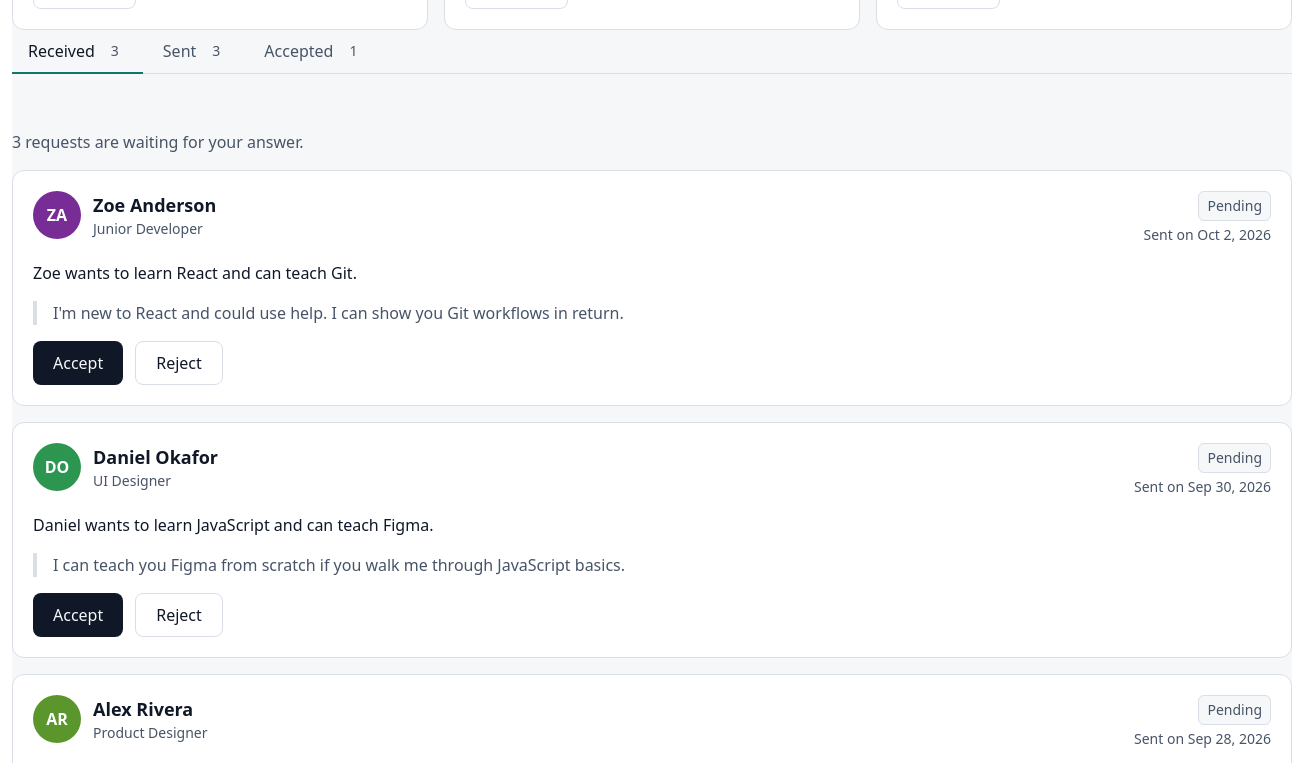
Test: Dashboard: stays in step with the other pages › updates the pending number after answering a request on the Requests page
(page scrolled)
Expected: the element named "Requests" is shown, [12,30,1291,74]
Click the button with aria-label "Accept request from Zoe Anderson" at (78, 363), box [33,341,123,385]
(page scrolled)
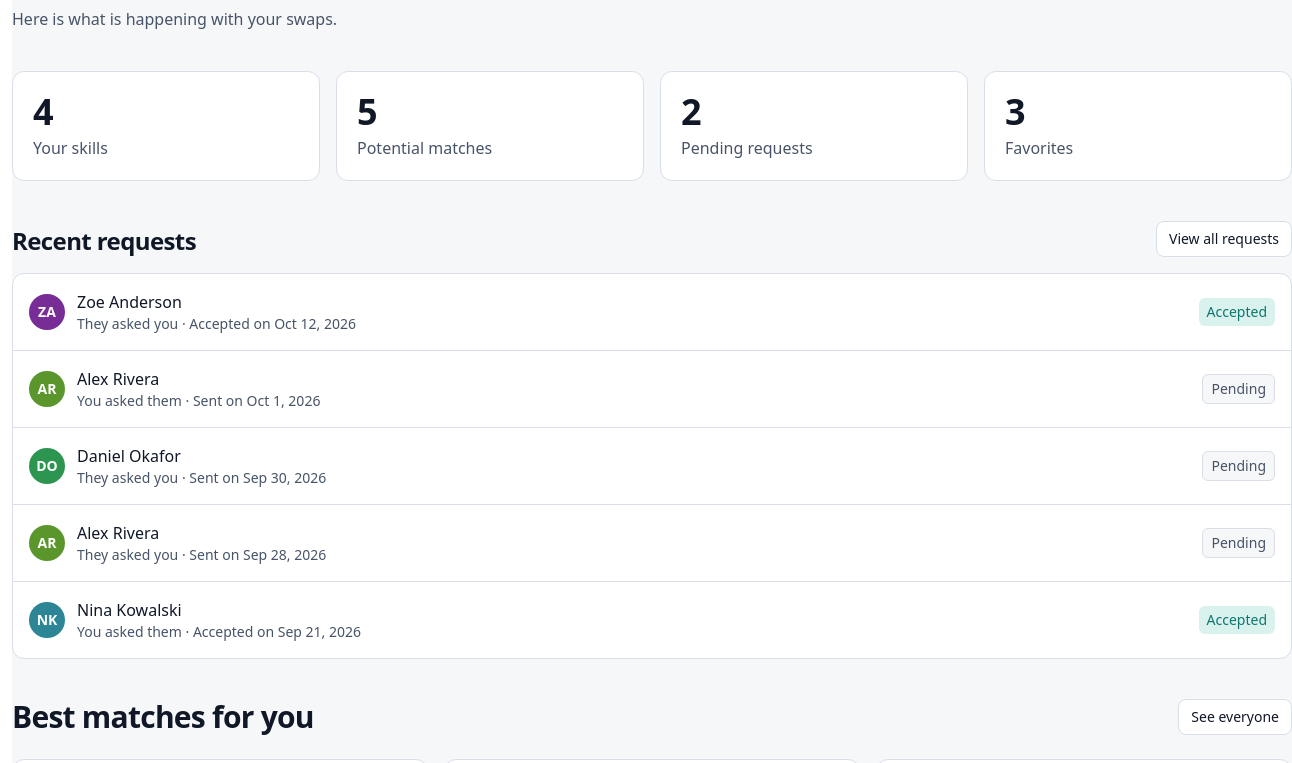
Expected: the link "2 Pending requests" is shown, [660,71,968,181]
